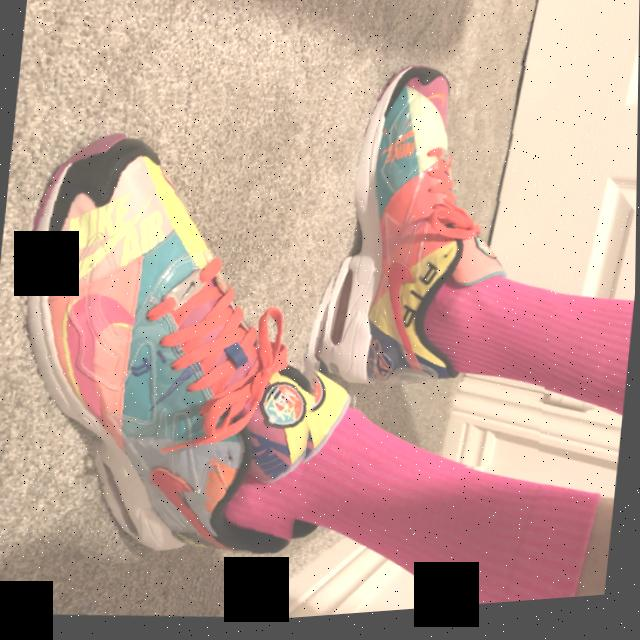shoe: (0, 71, 362, 590), (343, 24, 581, 487)
